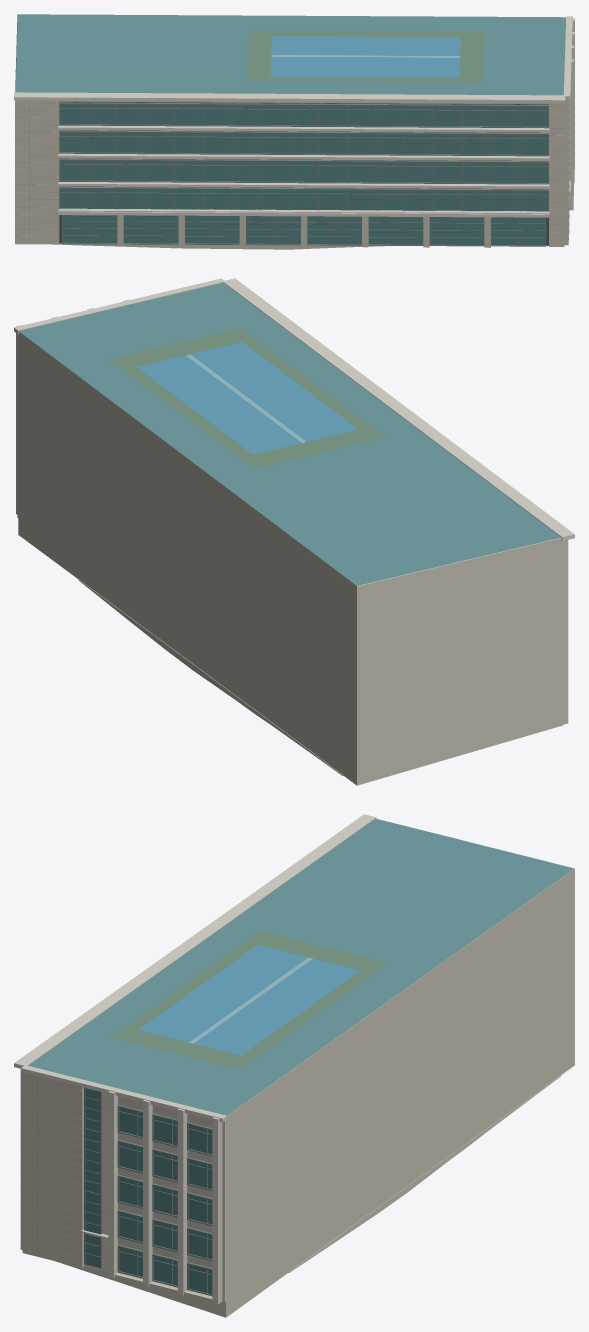
The model's file is intact.glb.
The picture shows the model from 3 angles, top to bottom: view 1: azimuth 30°, elevation 25°; view 2: azimuth 150°, elevation 25°; view 3: azimuth 270°, elevation 25°; orthographic projection. The views are drawn at different scales.
Visible parts, largest first — view 1: SM_468931910_Intact_00, SM_468931910_Intact_34, SM_468931910_Intact_31, SM_468931910_Intact_33, SM_468931910_Intact_19, SM_468931910_Intact_27, SM_468931910_Intact_26, SM_468931910_Intact_20, SM_468931910_Intact_23, SM_468931910_Intact_35, SM_468931910_Intact_32, SM_468931910_Intact_24 (+9 smaller); view 2: SM_468931910_Intact_00, SM_468931910_Intact_26, SM_468931910_Intact_36, SM_468931910_Intact_15, SM_468931910_Intact_27; view 3: SM_468931910_Intact_00, SM_468931910_Intact_01, SM_468931910_Intact_09, SM_468931910_Intact_14, SM_468931910_Intact_26, SM_468931910_Intact_03, SM_468931910_Intact_08, SM_468931910_Intact_11, SM_468931910_Intact_13, SM_468931910_Intact_15, SM_468931910_Intact_36, SM_468931910_Intact_04 (+1 smaller).
Part boxes in pixels (x1,y1,x2,y2): SM_468931910_Intact_00: (15,14,565,95); SM_468931910_Intact_34: (60,104,548,211); SM_468931910_Intact_31: (63,215,545,245); SM_468931910_Intact_33: (59,102,548,211); SM_468931910_Intact_19: (58,125,549,217); SM_468931910_Intact_27: (15,100,564,246); SM_468931910_Intact_26: (14,92,565,103); SM_468931910_Intact_20: (60,108,548,195); SM_468931910_Intact_23: (58,208,549,217); SM_468931910_Intact_35: (59,101,548,189); SM_468931910_Intact_32: (63,220,545,238); SM_468931910_Intact_24: (117,215,490,247); SM_468931910_Intact_00: (18,282,563,785); SM_468931910_Intact_26: (223,278,574,540); SM_468931910_Intact_36: (78,579,343,775); SM_468931910_Intact_15: (14,278,225,334); SM_468931910_Intact_27: (563,540,568,724); SM_468931910_Intact_00: (28,818,574,1317); SM_468931910_Intact_01: (22,1072,83,1267); SM_468931910_Intact_09: (119,1107,212,1294); SM_468931910_Intact_14: (108,1091,222,1304); SM_468931910_Intact_26: (14,814,376,1068); SM_468931910_Intact_03: (118,1096,212,1267); SM_468931910_Intact_08: (117,1105,212,1295); SM_468931910_Intact_11: (85,1088,100,1267); SM_468931910_Intact_13: (84,1092,225,1302); SM_468931910_Intact_15: (21,1065,226,1122); SM_468931910_Intact_36: (288,1075,561,1272); SM_468931910_Intact_04: (23,1077,107,1263).
Bounding box in the file's own units: 2.2 × 0.6912 × 1.71.
Materials: 8 (1 with a texture image).
